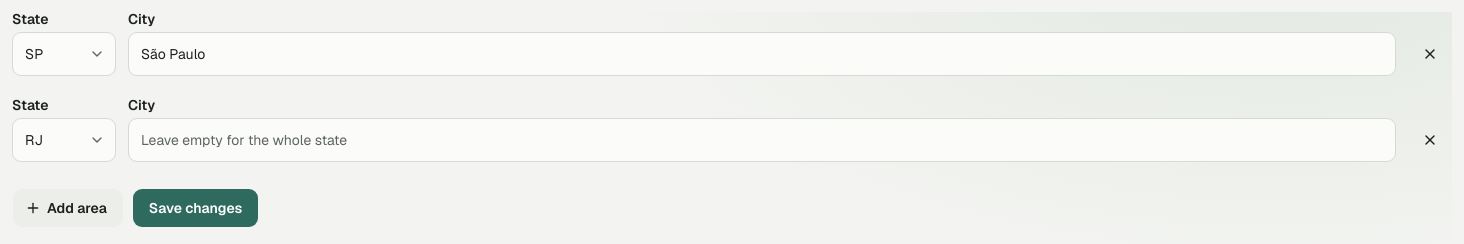
Scenario: CoverageAreasEditor — edit mode › shows the warning when there are no rows left
The width and height of the screenshot is (1464, 244).
Step 1. Click the button named "Remove area" → (1430, 54), box x1=1408 y1=32 x2=1452 y2=76
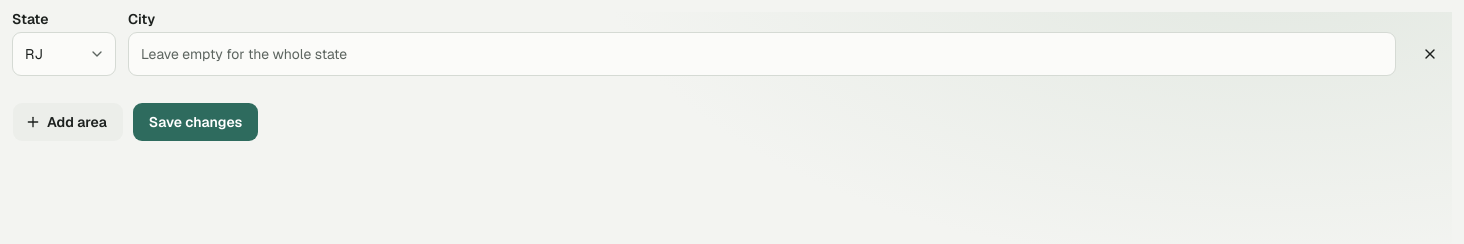
Step 2. Click the button named "Remove area" → (1430, 54), box x1=1408 y1=32 x2=1452 y2=76
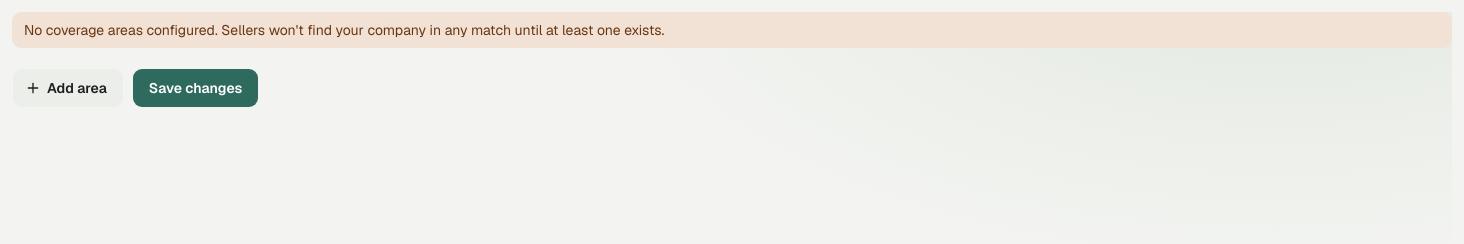
Check: the text "won't find your company" is shown, box x1=24 y1=21 x2=664 y2=39
